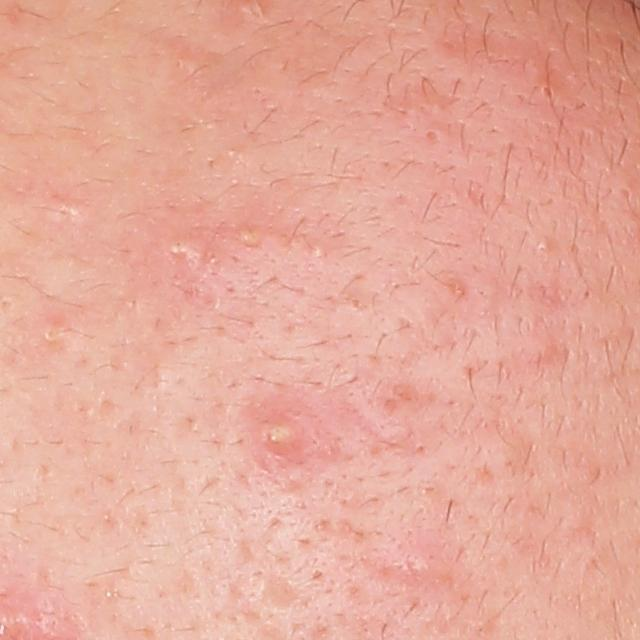atrophic_scar: (257, 570, 310, 612)
comedo: (423, 126, 442, 145), (536, 240, 550, 255)
pustule: (254, 404, 316, 455), (163, 232, 208, 267), (233, 217, 272, 257)
